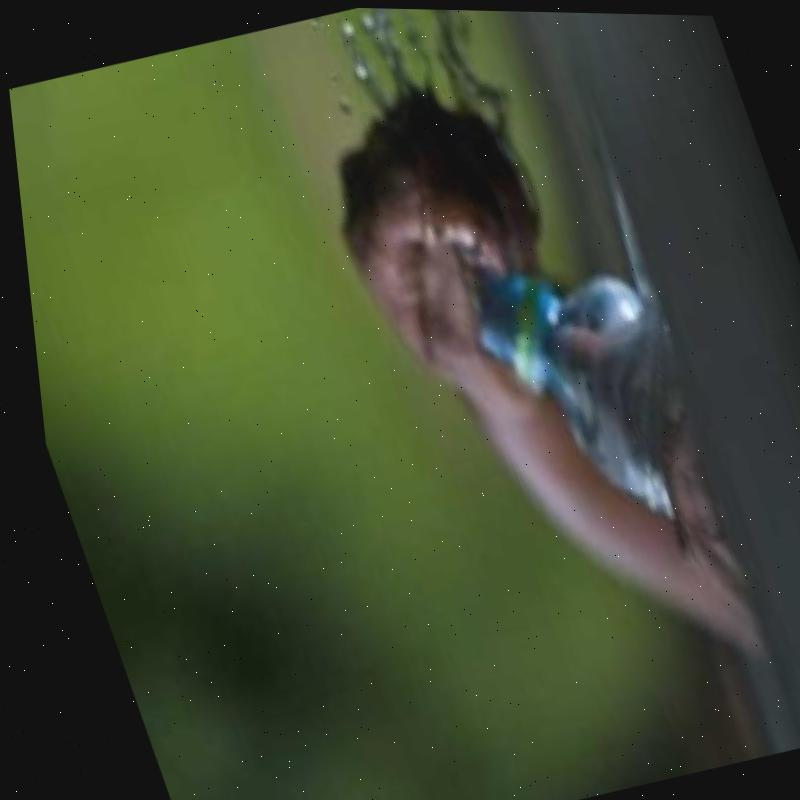botella: (449, 240, 710, 551)
